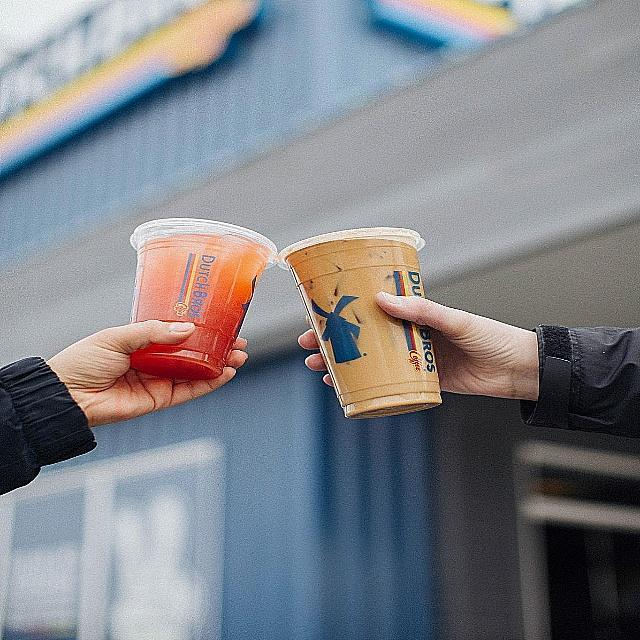paper_cup: (270, 225, 445, 420), (122, 216, 275, 385)
